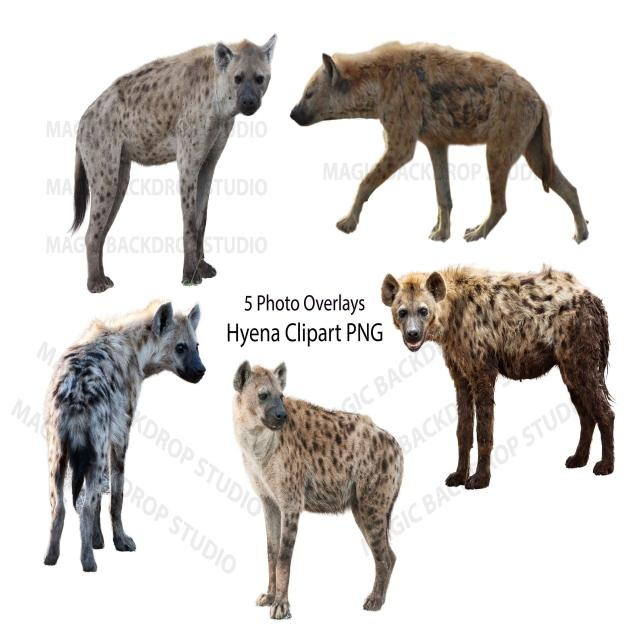Hyena: (288, 42, 596, 246), (62, 26, 280, 298), (377, 259, 621, 483), (228, 354, 406, 624), (39, 297, 209, 571)
